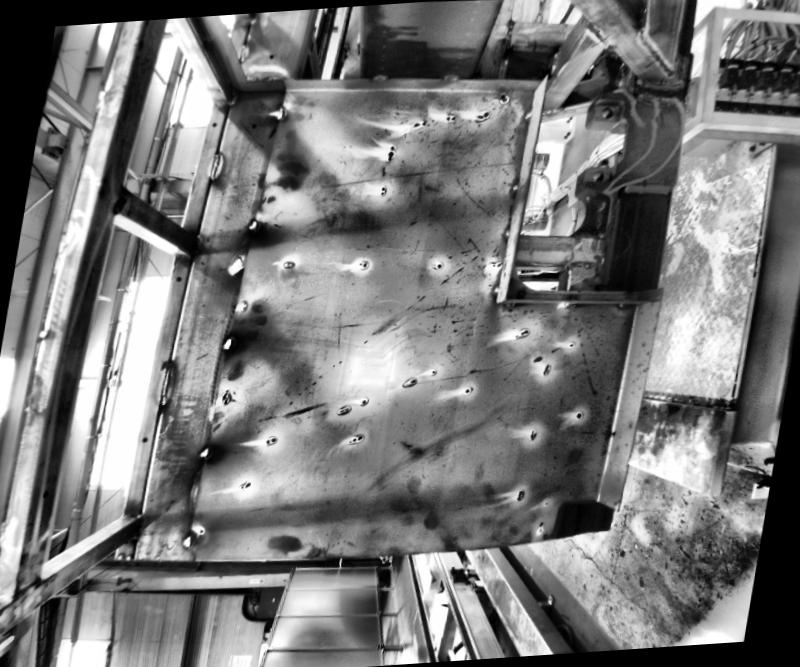hole: (591, 168, 605, 182), (600, 106, 616, 118), (176, 273, 184, 281), (498, 91, 504, 98), (269, 52, 275, 58), (136, 522, 140, 530), (142, 435, 148, 440), (251, 122, 256, 127), (212, 120, 216, 124)
welding: (634, 31, 677, 73), (585, 18, 612, 46), (160, 360, 173, 411), (198, 439, 216, 463), (245, 215, 263, 236), (236, 39, 250, 65), (208, 148, 220, 178), (118, 184, 128, 210), (276, 104, 290, 121), (132, 515, 142, 537), (190, 234, 200, 256), (440, 70, 458, 82), (222, 334, 234, 350), (523, 106, 536, 120), (182, 530, 194, 544), (560, 300, 582, 306), (372, 73, 386, 81), (512, 180, 520, 191), (493, 282, 500, 294), (505, 300, 515, 305), (618, 303, 630, 307), (506, 227, 510, 236)
